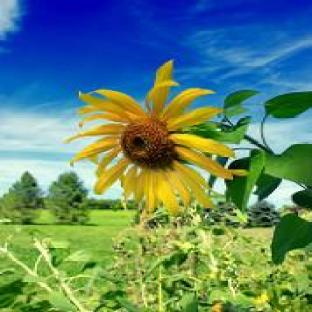sunflower: (65, 61, 249, 217)
